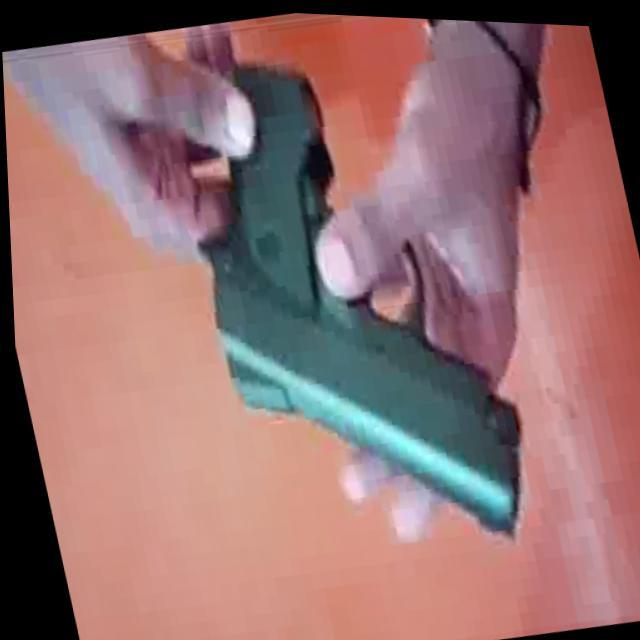weapon: (154, 18, 540, 576)
